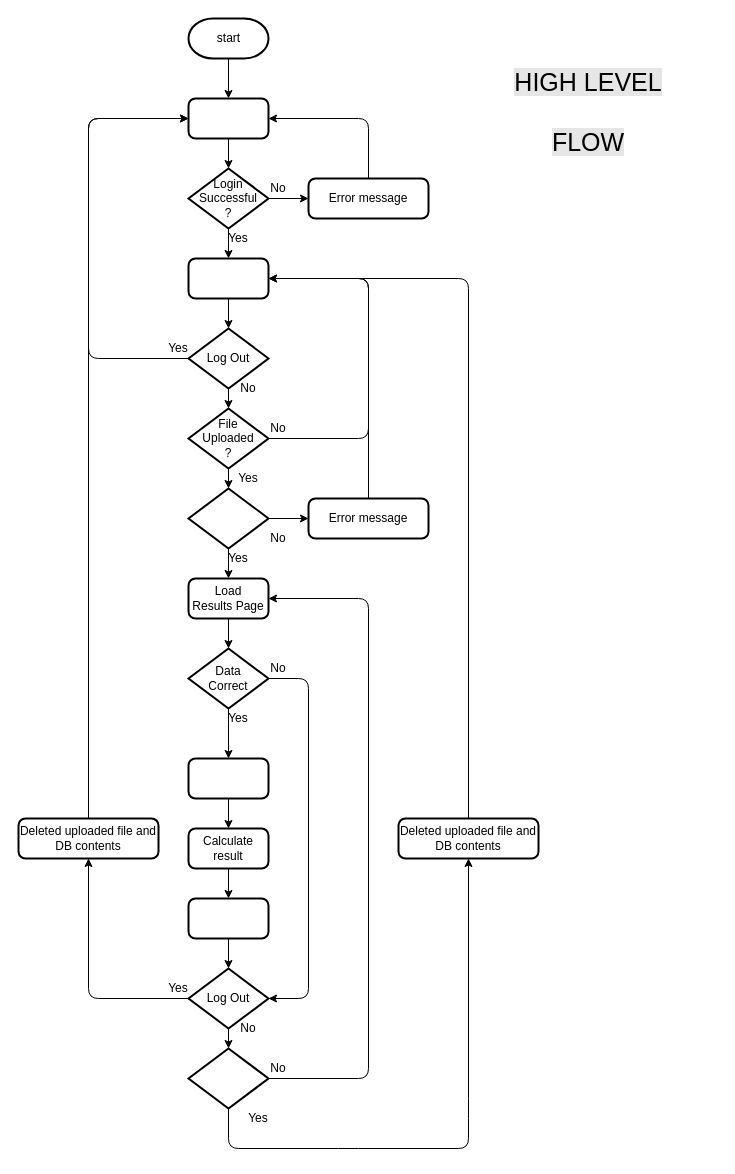
The diagram is 735 pixels wide and 1174 high, and some of its shapes have lost their labels. The box of each missing label's shape, as (x1, y1, x2, y2) in pixels:
File Valid ?: (187, 487, 269, 549)
Load Login page: (187, 97, 269, 139)
Load Upload page: (187, 257, 269, 299)
Save to DB: (187, 757, 269, 799)
Show result: (187, 897, 269, 939)
Upload new file ?: (187, 1047, 269, 1109)
